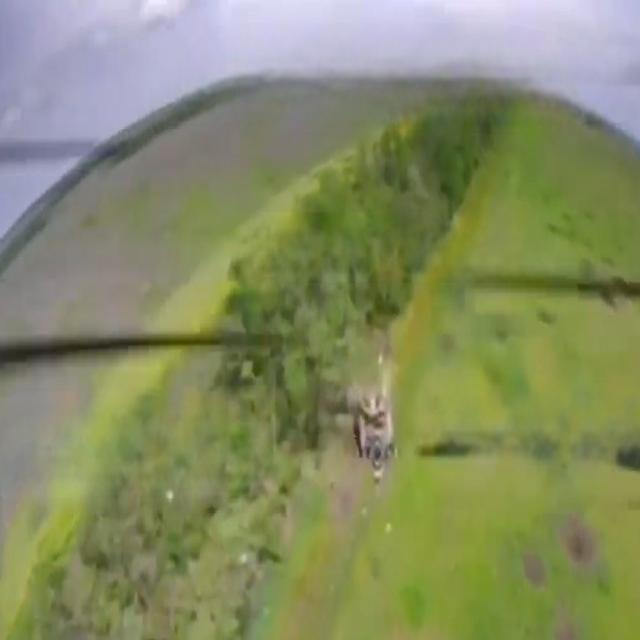MBT: (359, 382, 394, 462)
